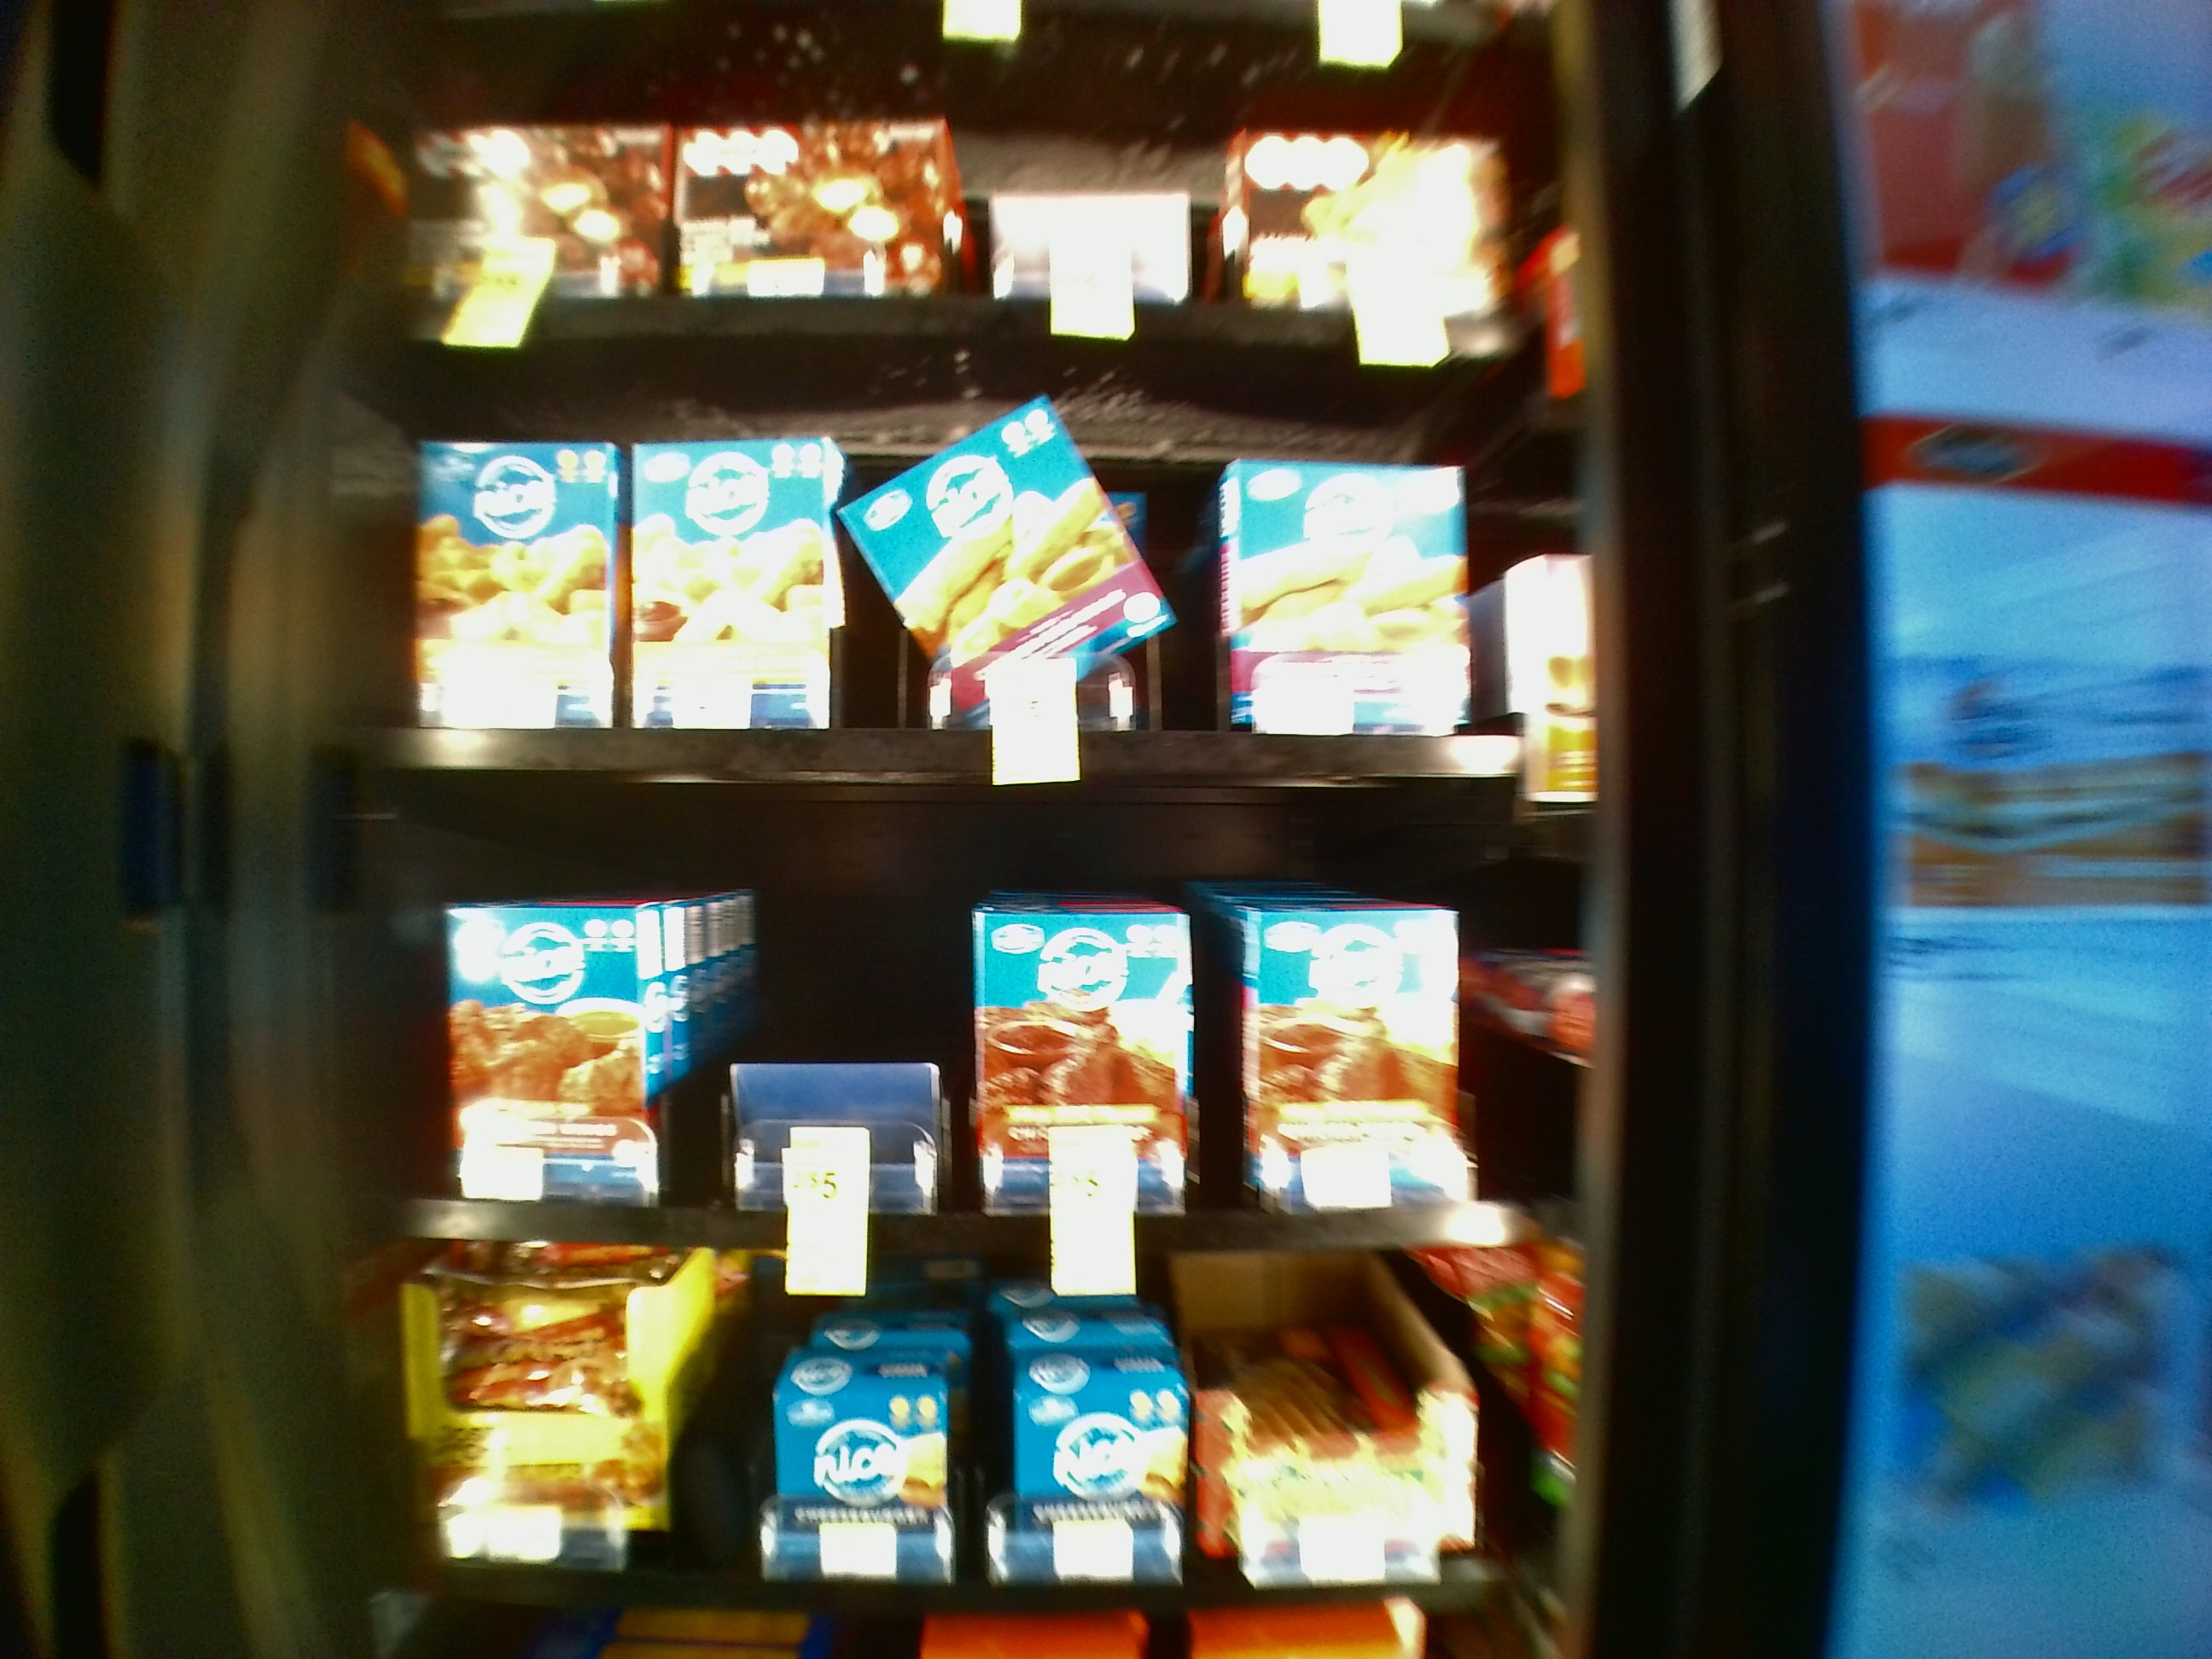shelf: (324, 796, 1583, 1265), (331, 347, 1575, 782)
